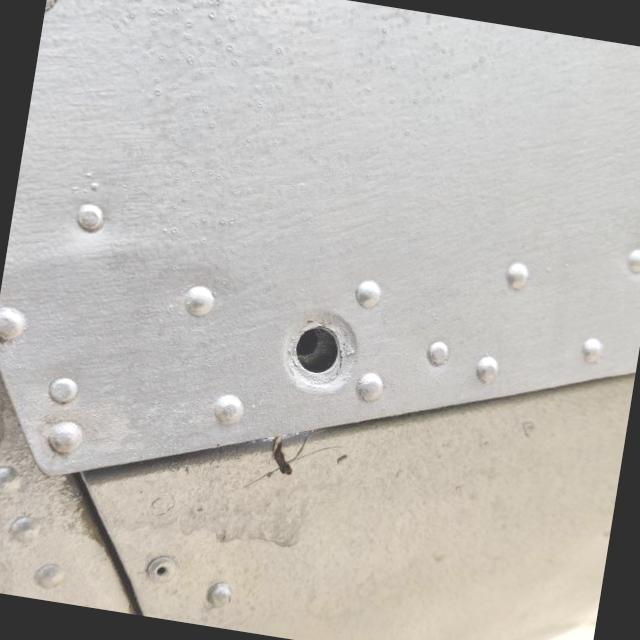Missing Fastener: (278, 306, 362, 398)
